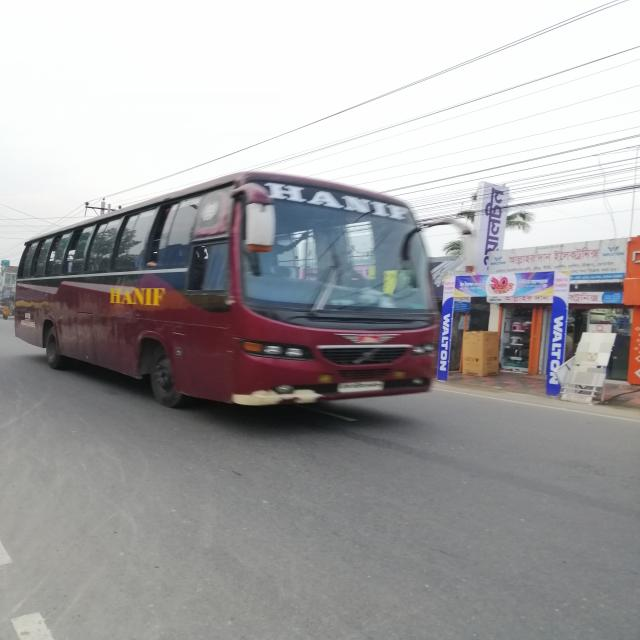Bus: (10, 166, 463, 416)
